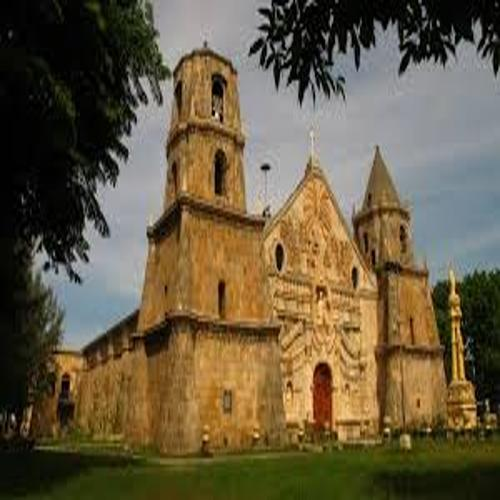Miagao Church: (137, 38, 455, 454)
